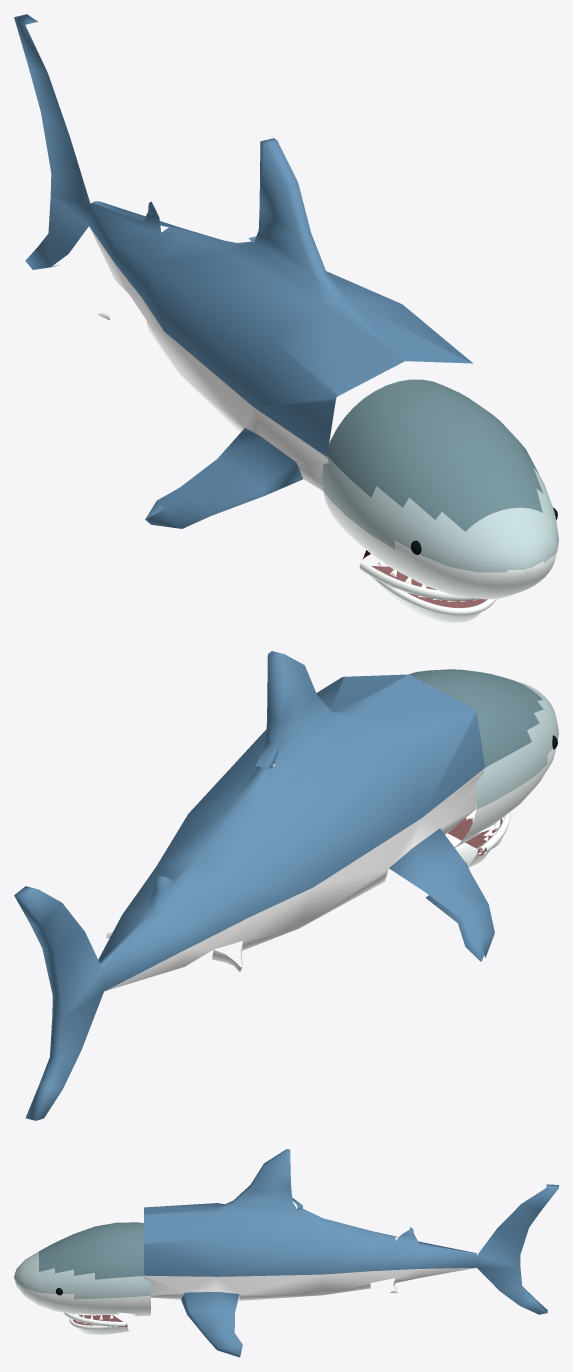
Rendered from shark-cinematic.glb.
3 renders of one model, top to bottom at view 1: azimuth 30°, elevation 25°; view 2: azimuth 150°, elevation 25°; view 3: azimuth 270°, elevation 25°, orthographic. The views are drawn at different scales.
Parts seen in each view (by area): view 1: SharkBody, LowerJaw; view 2: SharkBody, LowerJaw; view 3: SharkBody, LowerJaw.
Boxes of the visible parts, x1=… form: SharkBody: x1=14, y1=14, x2=558, y2=601; LowerJaw: x1=366, y1=560, x2=496, y2=622; SharkBody: x1=14, y1=651, x2=558, y2=1120; LowerJaw: x1=445, y1=814, x2=503, y2=867; SharkBody: x1=14, y1=1149, x2=558, y2=1357; LowerJaw: x1=69, y1=1314, x2=128, y2=1334.
Bounding box in the file's own units: 5.92 × 5.62 × 15.6.
